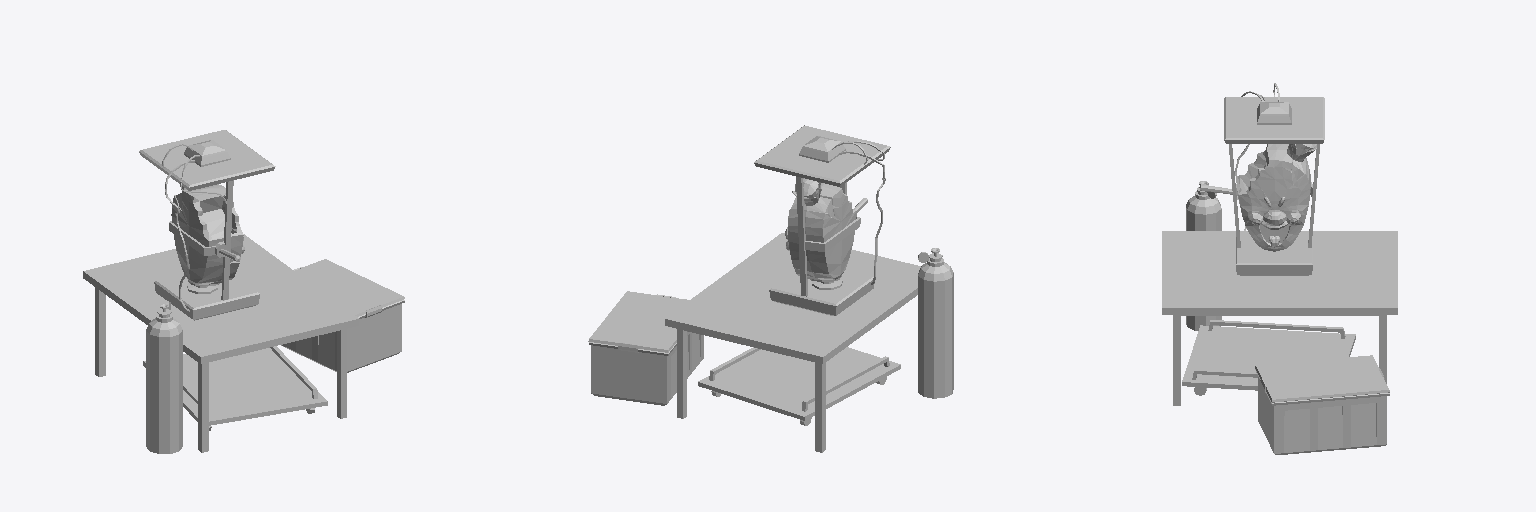
The picture shows the model from 3 angles: view 1: azimuth 30°, elevation 25°; view 2: azimuth 150°, elevation 25°; view 3: azimuth 270°, elevation 25°; orthographic projection.
Visible parts, largest first — view 1: rodroom_coffeetable_0, combined mesh (root: scene) 10_0, rodroom_trolley_0, combined mesh (root: scene) 10_0 1, rodroom_gasbutane_0, SubMesh_0; view 2: rodroom_coffeetable_0, combined mesh (root: scene) 10_0, combined mesh (root: scene) 10_0 1, rodroom_trolley_0, rodroom_gasbutane_0, SubMesh_0; view 3: rodroom_coffeetable_0, combined mesh (root: scene) 10_0 1, combined mesh (root: scene) 10_0, rodroom_trolley_0, SubMesh_0, rodroom_gasbutane_0.
Part boxes in pixels (bbox=[...]): rodroom_coffeetable_0: bbox=[83, 234, 358, 452]; combined mesh (root: scene) 10_0: bbox=[139, 130, 275, 320]; rodroom_trolley_0: bbox=[143, 346, 327, 430]; combined mesh (root: scene) 10_0 1: bbox=[281, 259, 404, 372]; rodroom_gasbutane_0: bbox=[146, 301, 182, 453]; SubMesh_0: bbox=[171, 184, 244, 285]; rodroom_coffeetable_0: bbox=[665, 233, 920, 452]; combined mesh (root: scene) 10_0: bbox=[754, 125, 890, 315]; combined mesh (root: scene) 10_0 1: bbox=[588, 291, 703, 405]; rodroom_trolley_0: bbox=[698, 347, 900, 425]; rodroom_gasbutane_0: bbox=[918, 248, 953, 398]; SubMesh_0: bbox=[785, 178, 856, 281]; rodroom_coffeetable_0: bbox=[1162, 231, 1397, 405]; combined mesh (root: scene) 10_0 1: bbox=[1255, 355, 1389, 454]; combined mesh (root: scene) 10_0: bbox=[1199, 83, 1324, 275]; rodroom_trolley_0: bbox=[1182, 320, 1355, 395]; SubMesh_0: bbox=[1237, 144, 1316, 251]; rodroom_gasbutane_0: bbox=[1186, 181, 1221, 330].
Size of the model in its own units: 2.57 by 2.22 by 1.8.